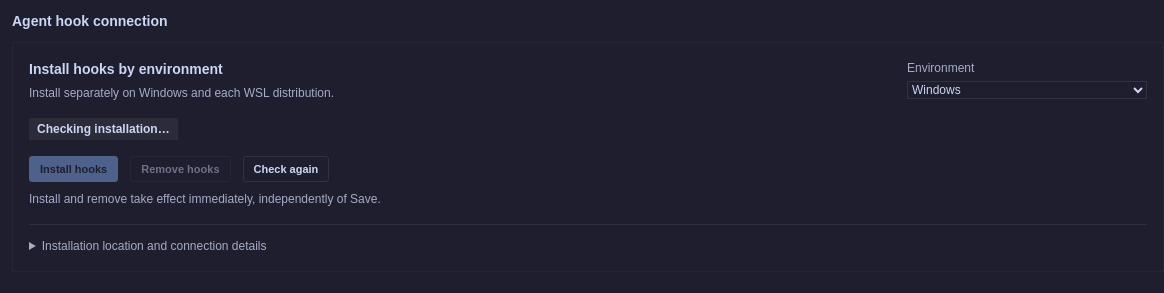
Test: AgentHooksSection › docker-desktop에서 조회 실패를 에이전트 미설치로 추측하지 않는다
The width and height of the screenshot is (1164, 293).
Select "WSL · docker-desktop" in the dropdown with test id "agent-hooks-environment" showing "Environment" at (1027, 90), box left=907, top=81, right=1147, bottom=99
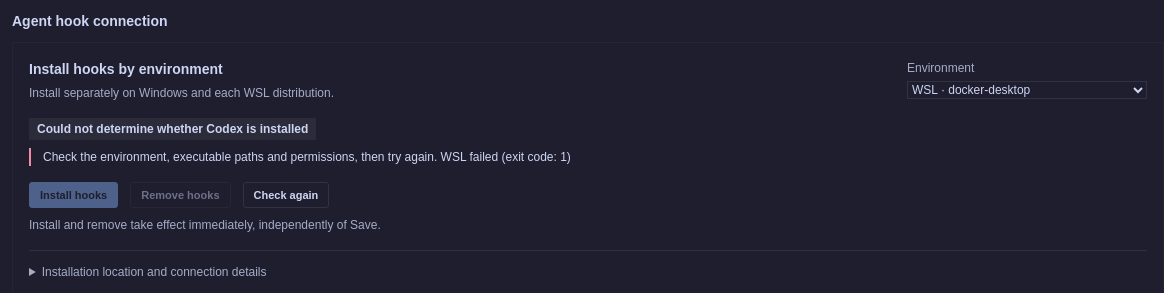
Expected: the button with test id "agent-hooks-install" is disabled, left=29, top=182, right=118, bottom=208
Result: the text "Could not determine whether Codex is installed" is shown at left=29, top=118, right=316, bottom=140
Result: the message shows "WSL failed (exit code: 1)" at left=441, top=150, right=571, bottom=164
